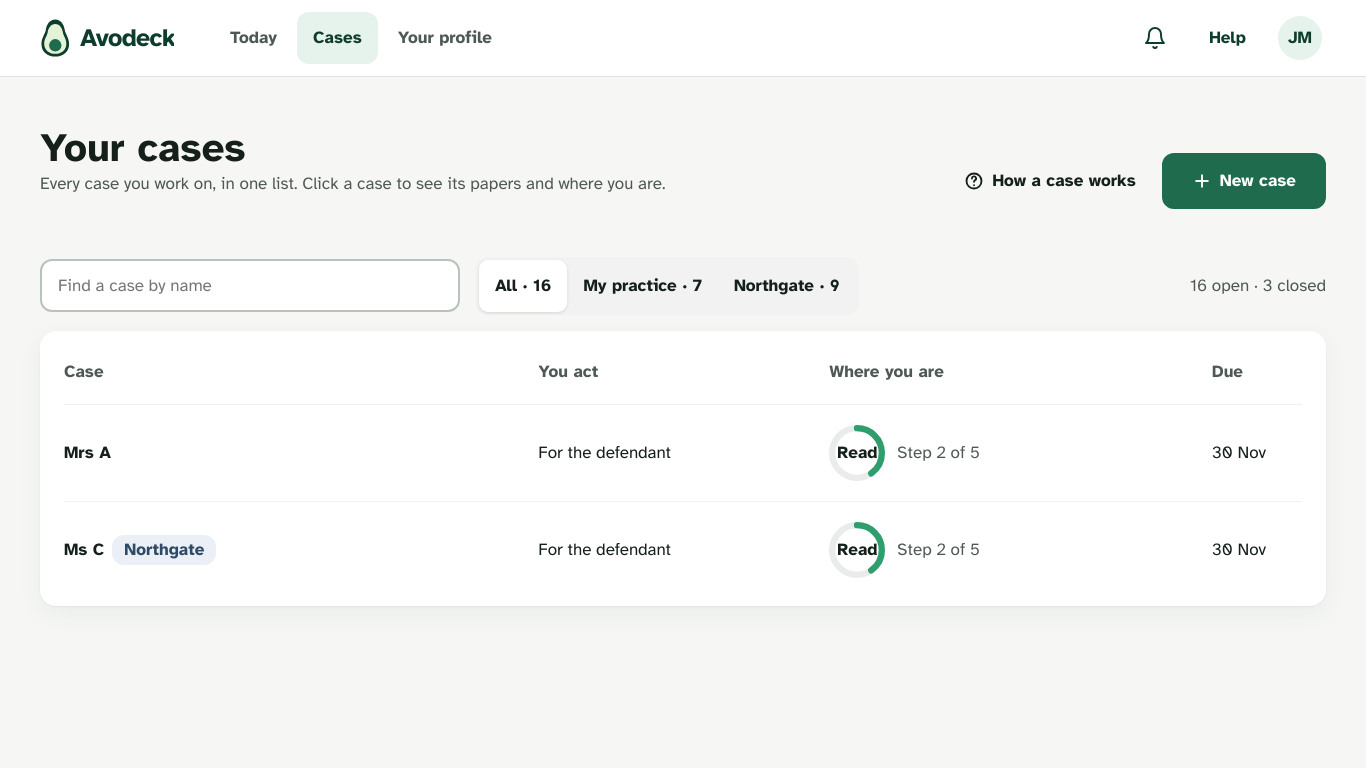
Test: choosing an organisation asks the server and keeps it in the address
This screenshot has width=1366, height=768.
Click the button "My practice · 7" at (643, 286), box [567,260,718,312]
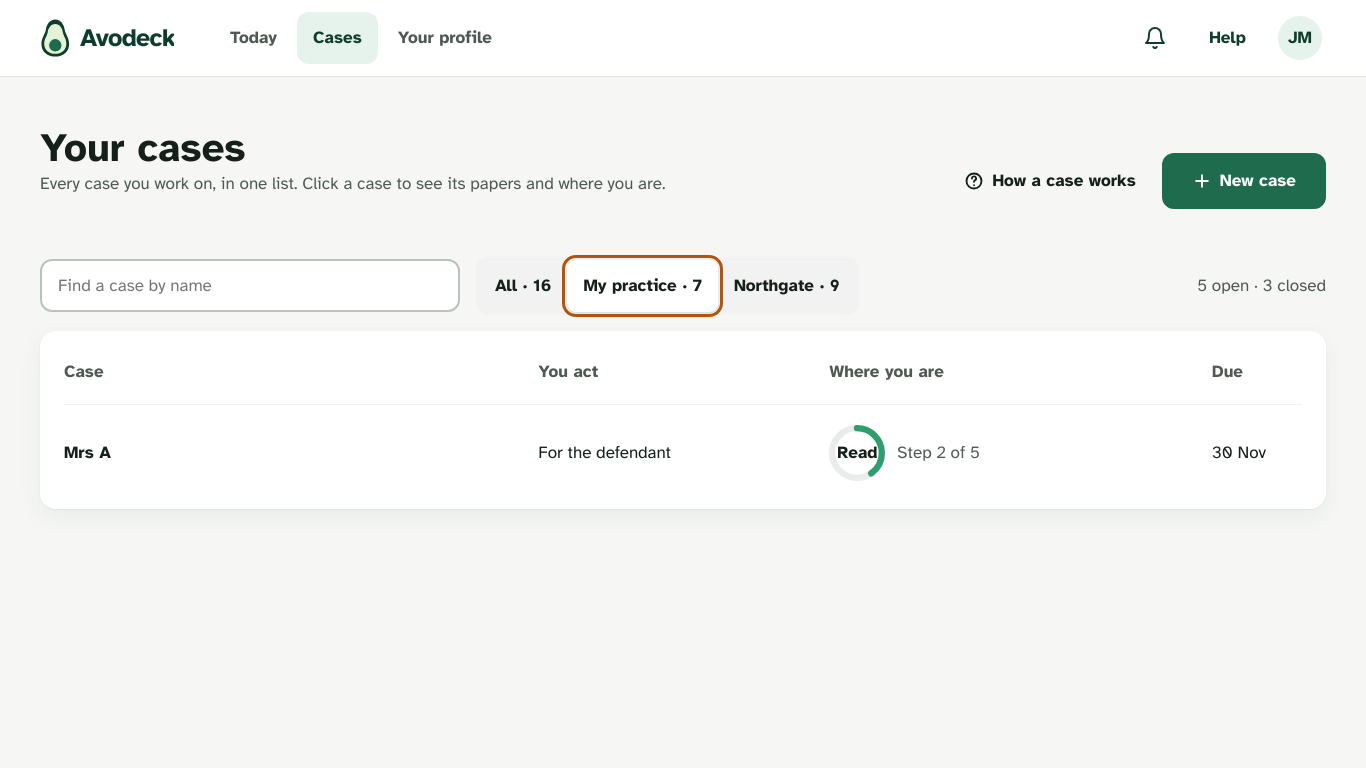
Expected: the text "5 open · 3 closed" is shown, [1197,273,1326,298]
Expected: the link "Ms C" is gone
